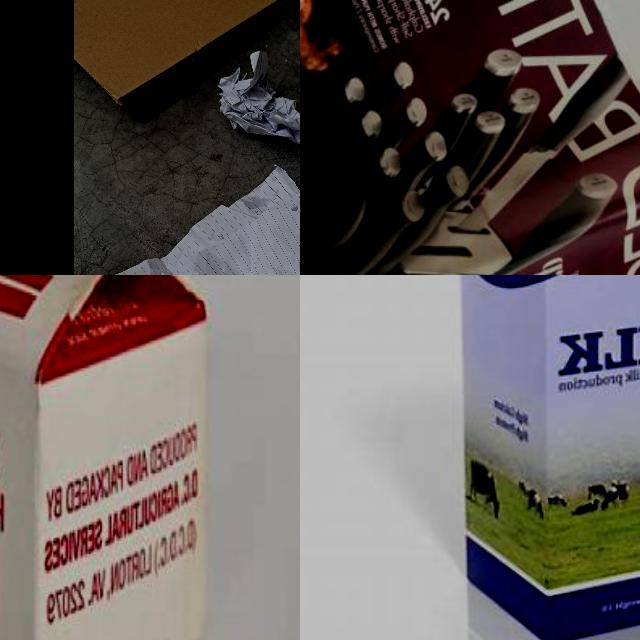caixinha: (0, 275, 211, 640), (458, 275, 640, 640)
papel: (300, 0, 640, 275), (74, 160, 300, 275), (216, 51, 300, 147)
papelão: (74, 0, 300, 106)
